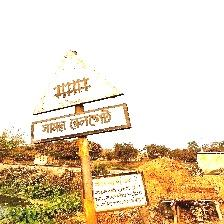Rail-crossing: (31, 51, 130, 143)
